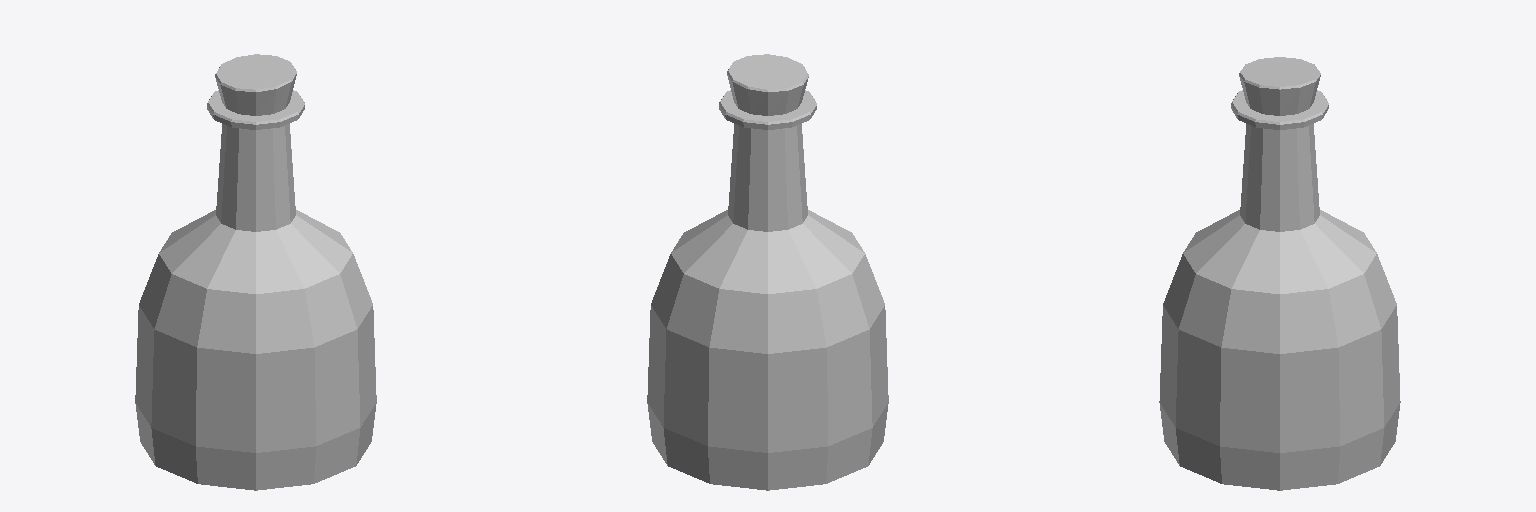
Rendered from GeneralStore_Bottle_02.obj.
3 views of the same model, side by side, from view 1: azimuth 30°, elevation 25°; view 2: azimuth 150°, elevation 25°; view 3: azimuth 270°, elevation 25° (orthographic).
Visible parts, largest first — view 1: Model_GeneralStore_Bottle_02; view 2: Model_GeneralStore_Bottle_02; view 3: Model_GeneralStore_Bottle_02.
Part boxes in pixels (left/top/right/bottom): Model_GeneralStore_Bottle_02: left=135, top=54, right=376, bottom=490; Model_GeneralStore_Bottle_02: left=647, top=54, right=888, bottom=490; Model_GeneralStore_Bottle_02: left=1159, top=57, right=1400, bottom=490.
Size of the model in its own units: 0.2584 by 0.4386 by 0.2578.